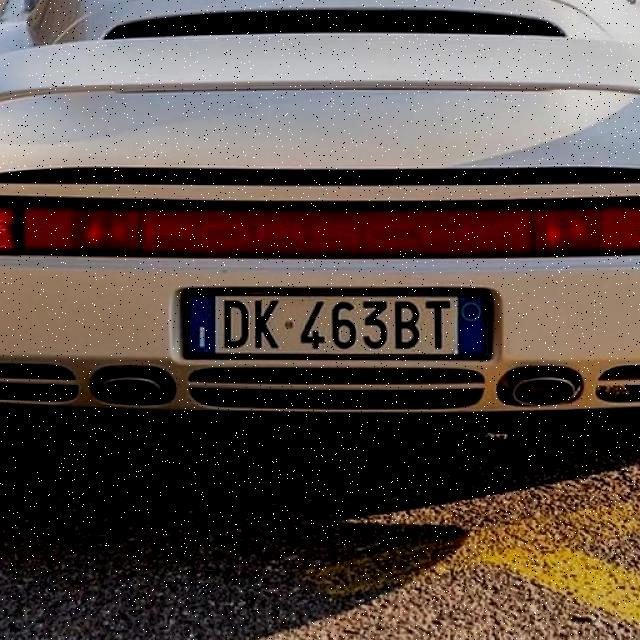licenseplate: (172, 286, 498, 370)
